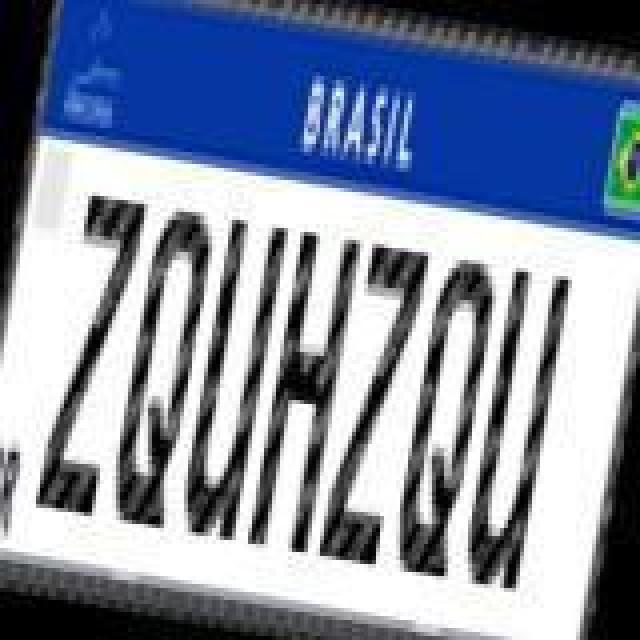H: (244, 224, 364, 560)
Q: (384, 248, 504, 584), (100, 202, 220, 534)
U: (174, 212, 290, 548), (454, 266, 570, 598)
Z: (30, 184, 146, 520), (318, 238, 434, 570)
